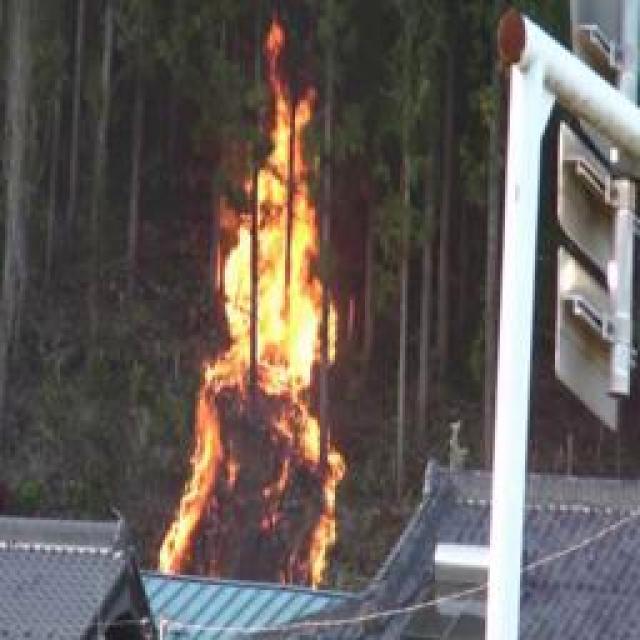Fire: (159, 20, 345, 589)
